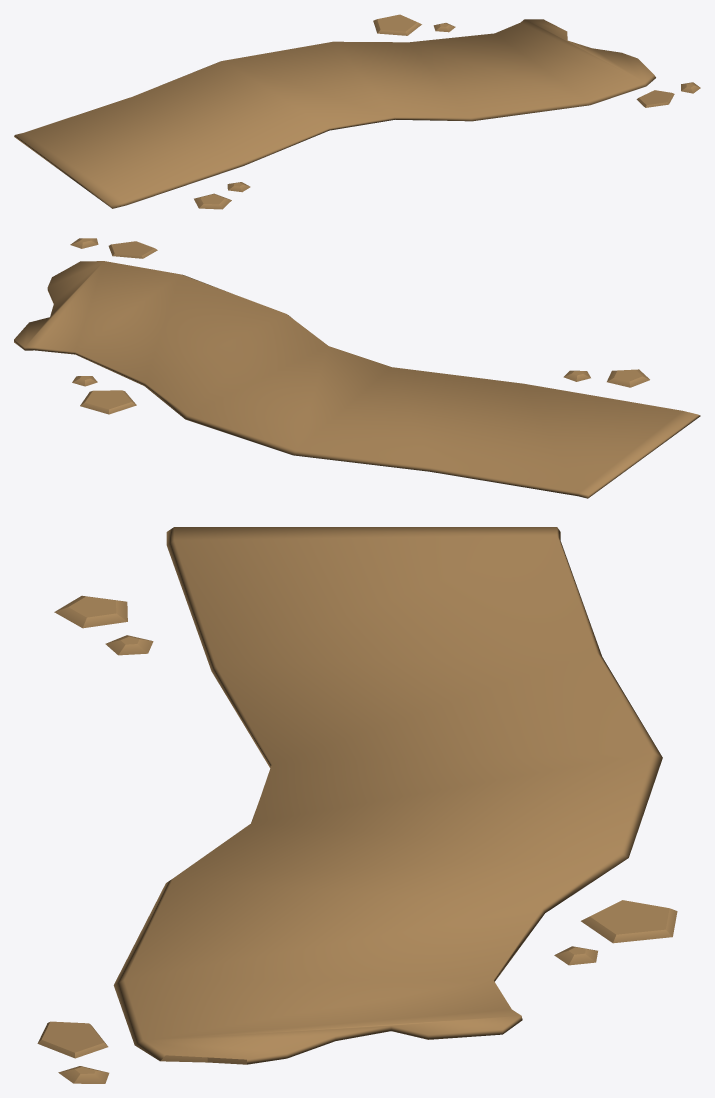
The model's file is Road.fbx.
The picture shows the model from 3 angles, top to bottom: view 1: azimuth 30°, elevation 25°; view 2: azimuth 150°, elevation 25°; view 3: azimuth 270°, elevation 25°; orthographic projection. The views are drawn at different scales.
Visible parts, largest first — view 1: Plane.005; view 2: Plane.005; view 3: Plane.005.
Part boxes in pixels (<box>): Plane.005: <box>14,14,700,209</box>; Plane.005: <box>14,238,700,498</box>; Plane.005: <box>37,527,677,1083</box>.
Bounding box in the file's own units: 1462 × 6.31 × 717.
